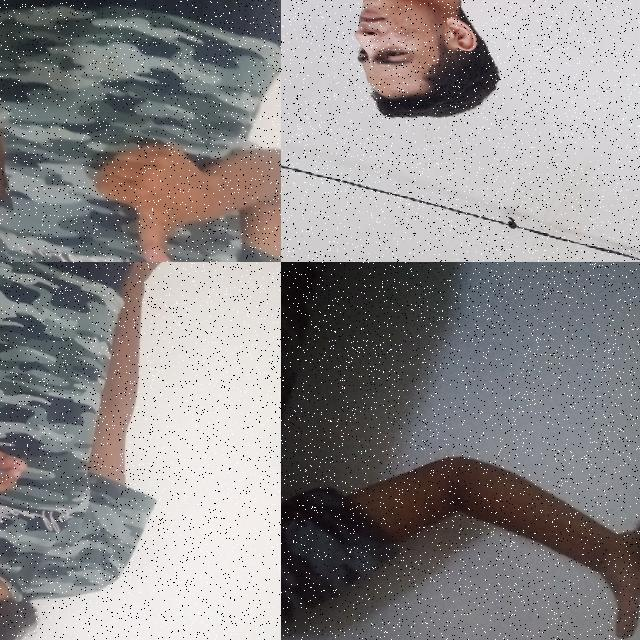Chin Flick: (302, 0, 505, 138)
Okay: (0, 387, 38, 547)
Thumbs Up: (82, 119, 246, 262), (577, 496, 640, 640)
